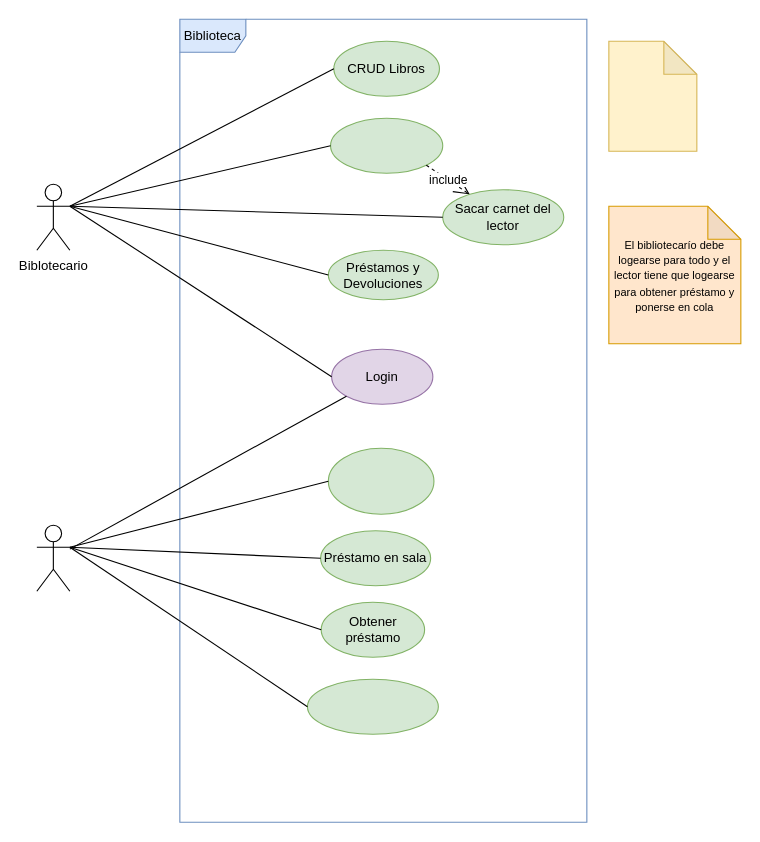
Some shapes in this 760 by 842 pixel diagram are drawn without their labels. The shapes that lost their labels are listed below. From the top down, each one's centre as x and y in pixels, then its label:
point (652, 95): Sacar el carnet va relacionado con el alta
point (386, 145): CRUD Lectores
point (380, 480): Consultar catálogo de libro
point (53, 557): Lector
point (372, 706): Esperar en lista de espera
